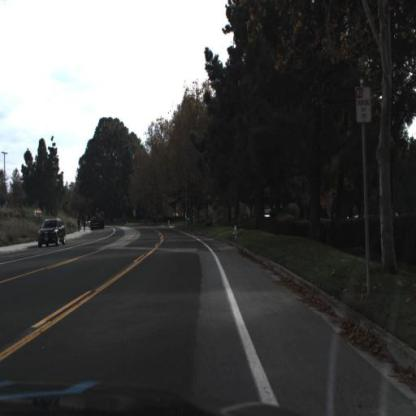car: (36, 216, 68, 252), (36, 217, 69, 249)
pedestrian: (75, 216, 84, 238), (83, 215, 89, 235)
truck: (89, 209, 107, 233)
